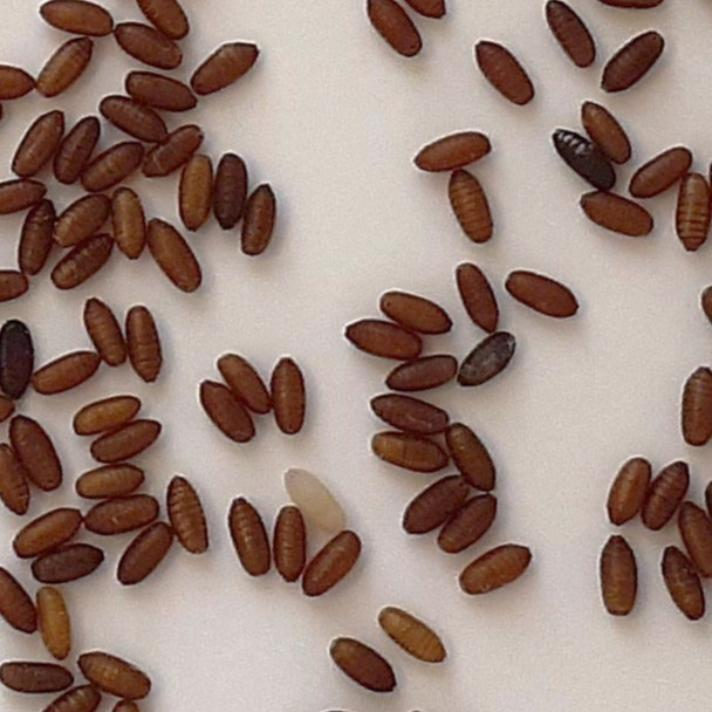pupae: (466, 36, 544, 113), (598, 26, 670, 104), (452, 539, 538, 604), (442, 418, 504, 504), (4, 410, 66, 496), (297, 531, 367, 607), (442, 166, 501, 253), (146, 214, 208, 296), (372, 604, 449, 670), (500, 266, 584, 326), (110, 520, 176, 594), (544, 129, 620, 193), (539, 0, 604, 74), (279, 463, 349, 531), (398, 474, 468, 542), (621, 142, 700, 202), (342, 312, 426, 368), (191, 38, 267, 98), (194, 378, 258, 448), (79, 644, 159, 700), (163, 475, 215, 560), (10, 505, 86, 563), (407, 127, 491, 179), (436, 491, 502, 557), (358, 0, 428, 62), (328, 633, 400, 693), (224, 491, 272, 581), (576, 188, 658, 240), (366, 394, 458, 440), (37, 33, 101, 99), (88, 414, 168, 466), (598, 532, 642, 625), (456, 330, 522, 392), (9, 107, 68, 176), (642, 455, 694, 532), (213, 352, 275, 416), (48, 232, 112, 294), (378, 292, 454, 344), (574, 101, 636, 164), (600, 456, 654, 528), (80, 138, 148, 194), (268, 351, 310, 441), (656, 546, 706, 620), (121, 303, 164, 389), (54, 114, 106, 185), (120, 69, 200, 115), (16, 197, 59, 282), (77, 294, 126, 368), (363, 432, 449, 474), (54, 190, 112, 252), (27, 541, 108, 585), (670, 491, 712, 575), (452, 262, 502, 332), (142, 123, 208, 176), (0, 314, 40, 400), (31, 0, 117, 40), (34, 349, 102, 399), (116, 20, 184, 70), (176, 151, 216, 235), (1, 656, 76, 700), (678, 169, 712, 264), (239, 181, 279, 261), (384, 350, 456, 394), (70, 392, 142, 436), (82, 498, 164, 536), (106, 182, 144, 262), (98, 94, 164, 140), (214, 151, 251, 233), (38, 587, 76, 661), (0, 564, 40, 634), (130, 0, 194, 42), (678, 367, 712, 446), (0, 444, 34, 522), (274, 505, 306, 587), (74, 468, 148, 503), (1, 176, 52, 222), (0, 60, 34, 104), (0, 265, 32, 305)
